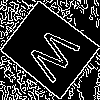W: (24, 24, 89, 91)
